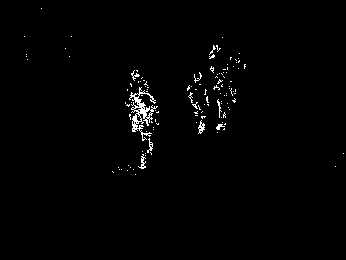person: (129, 80, 158, 169), (211, 73, 238, 132), (186, 71, 209, 135)
